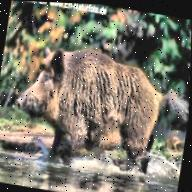boar: (6, 35, 191, 184)
